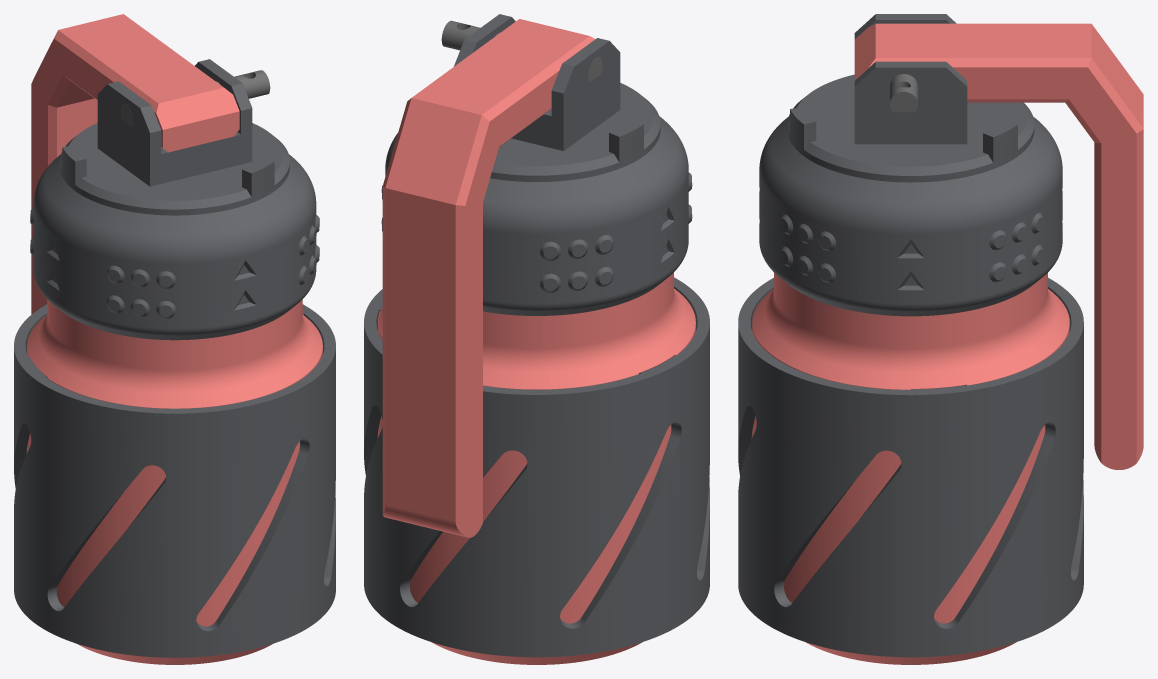
Rendered from grenade_stash_loose_pin_customizable.glb.
3 views of the same model, side by side, from view 1: azimuth 30°, elevation 25°; view 2: azimuth 150°, elevation 25°; view 3: azimuth 270°, elevation 25° (orthographic). The views are drawn at different scales.
Visible parts, largest first — view 1: Grenade_Outer_Customizable, Grenade_Lid_Customizable, Grenade_Container_Customizable, Grenade_Spoon_Customizable, Grenade_Pin_Customizable; view 2: Grenade_Outer_Customizable, Grenade_Spoon_Customizable, Grenade_Lid_Customizable, Grenade_Container_Customizable, Grenade_Pin_Customizable; view 3: Grenade_Outer_Customizable, Grenade_Lid_Customizable, Grenade_Spoon_Customizable, Grenade_Container_Customizable, Grenade_Pin_Customizable.
Boxes of the visible parts, left/top/right/bottom form: Grenade_Outer_Customizable: left=14, top=304, right=335, bottom=657; Grenade_Lid_Customizable: left=30, top=59, right=319, bottom=340; Grenade_Container_Customizable: left=27, top=299, right=322, bottom=664; Grenade_Spoon_Customizable: left=31, top=14, right=239, bottom=314; Grenade_Pin_Customizable: left=120, top=70, right=270, bottom=126; Grenade_Outer_Customizable: left=364, top=277, right=709, bottom=657; Grenade_Spoon_Customizable: left=382, top=19, right=595, bottom=537; Grenade_Lid_Customizable: left=381, top=14, right=692, bottom=315; Grenade_Container_Customizable: left=378, top=272, right=695, bottom=664; Grenade_Pin_Customizable: left=441, top=20, right=602, bottom=81; Grenade_Outer_Customizable: left=738, top=278, right=1083, bottom=657; Grenade_Lid_Customizable: left=759, top=14, right=1062, bottom=316; Grenade_Spoon_Customizable: left=854, top=23, right=1143, bottom=469; Grenade_Container_Customizable: left=752, top=273, right=1069, bottom=664; Grenade_Pin_Customizable: left=890, top=74, right=917, bottom=112.
Size of the model in its own units: 49 by 89 by 57.5.
